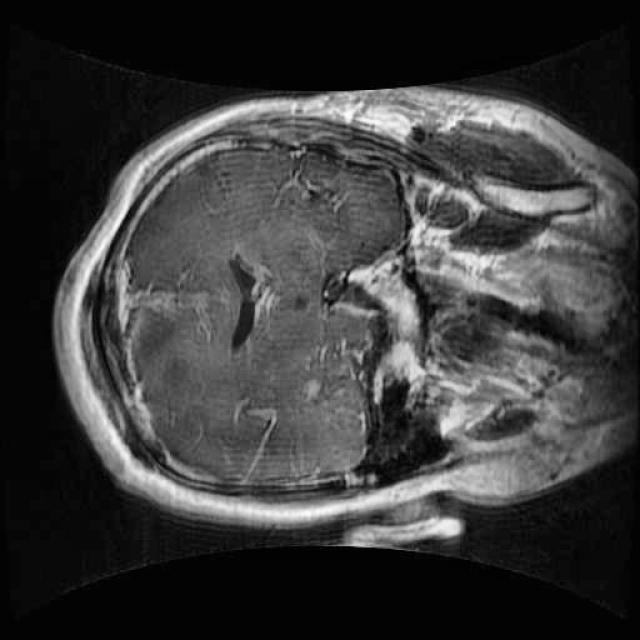Tumor: (110, 283, 190, 393)
